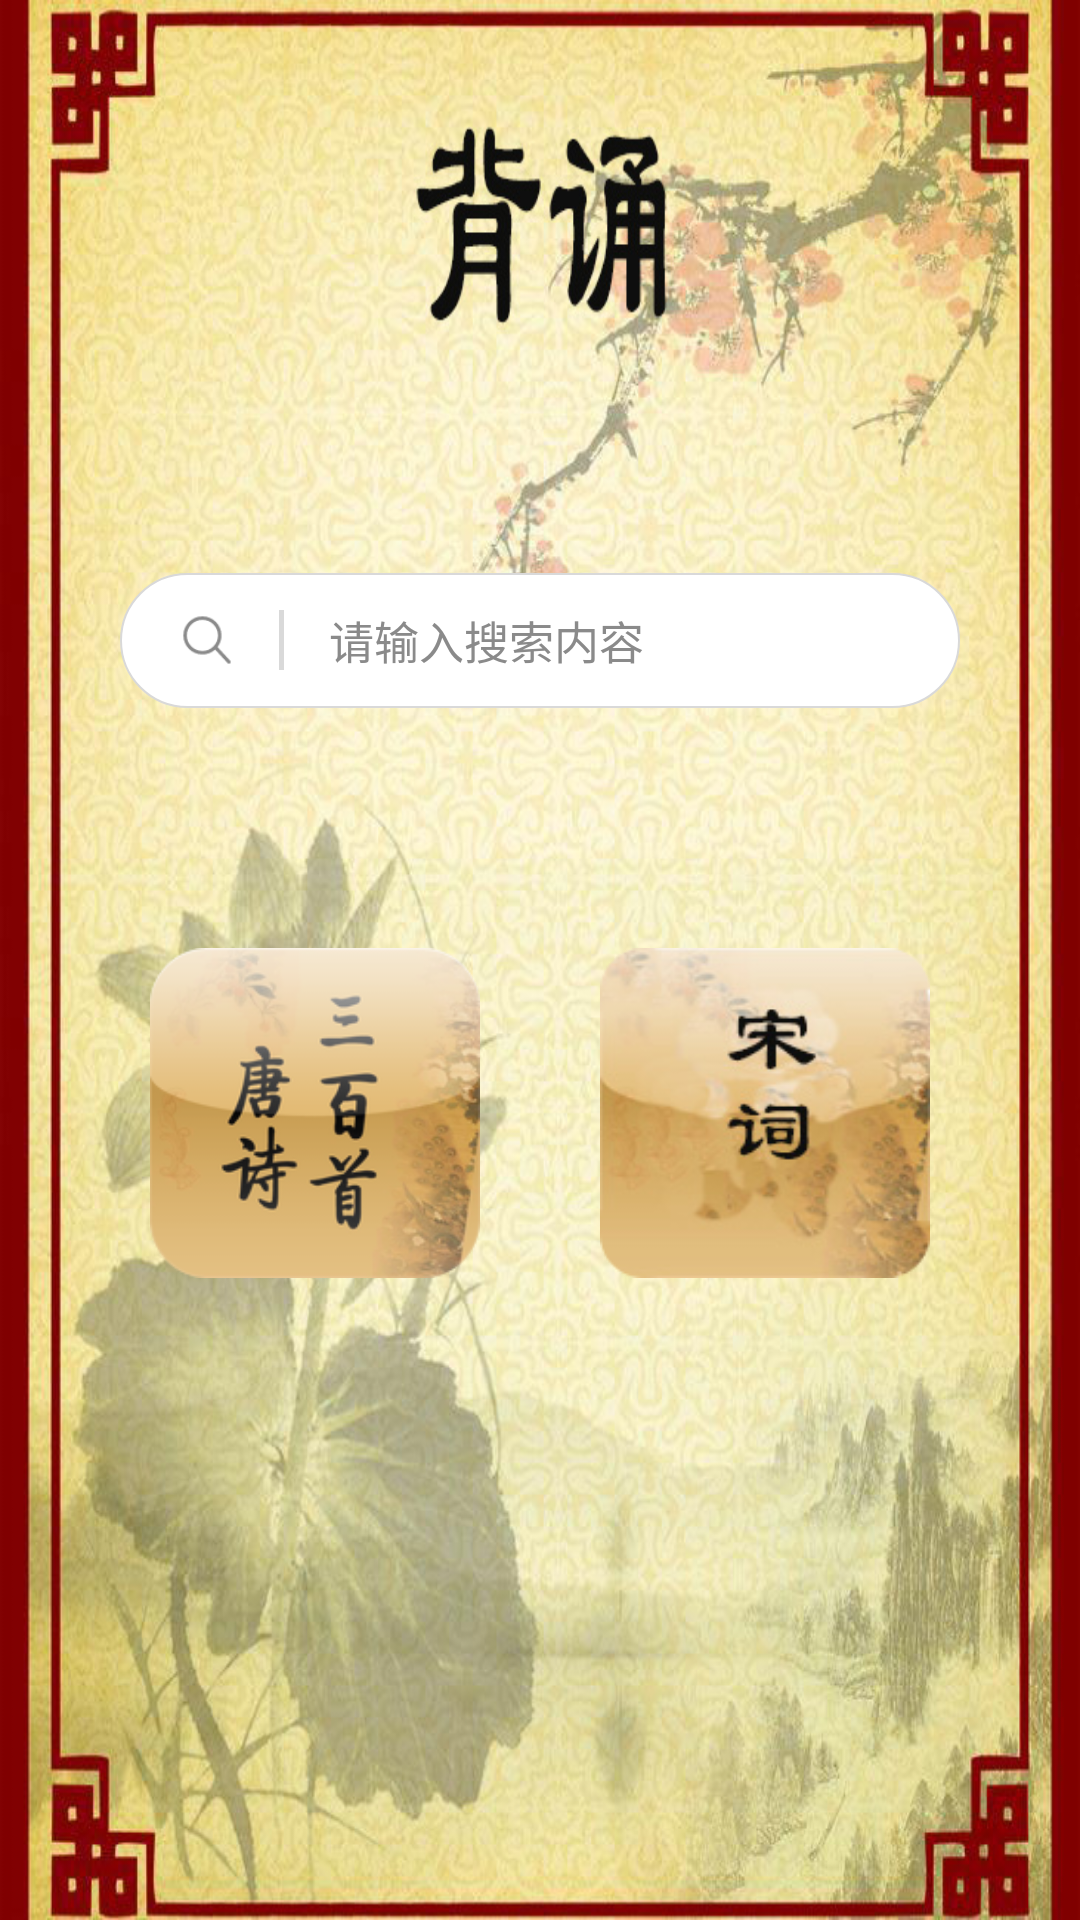

Screen size 1080w x 1920h. Icon name, then its box in pixels as (x1, y1, x2, y2):
search: (183, 616, 231, 664)
